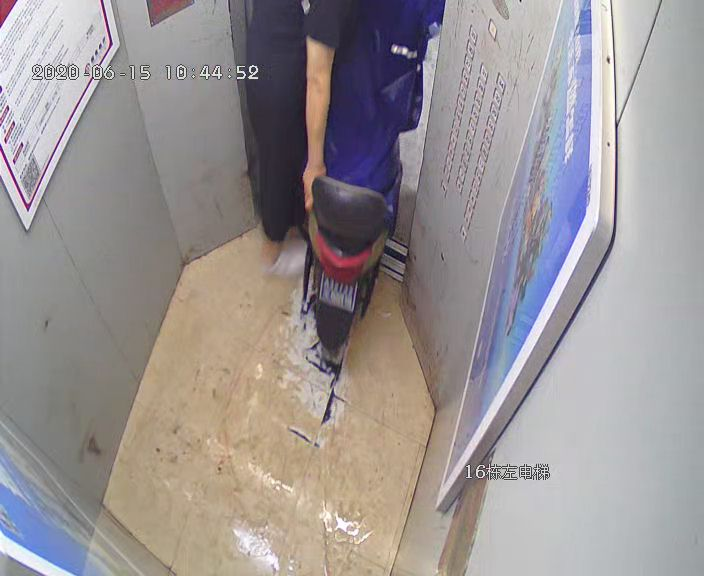Electric-bicycle: (307, 18, 422, 345)
